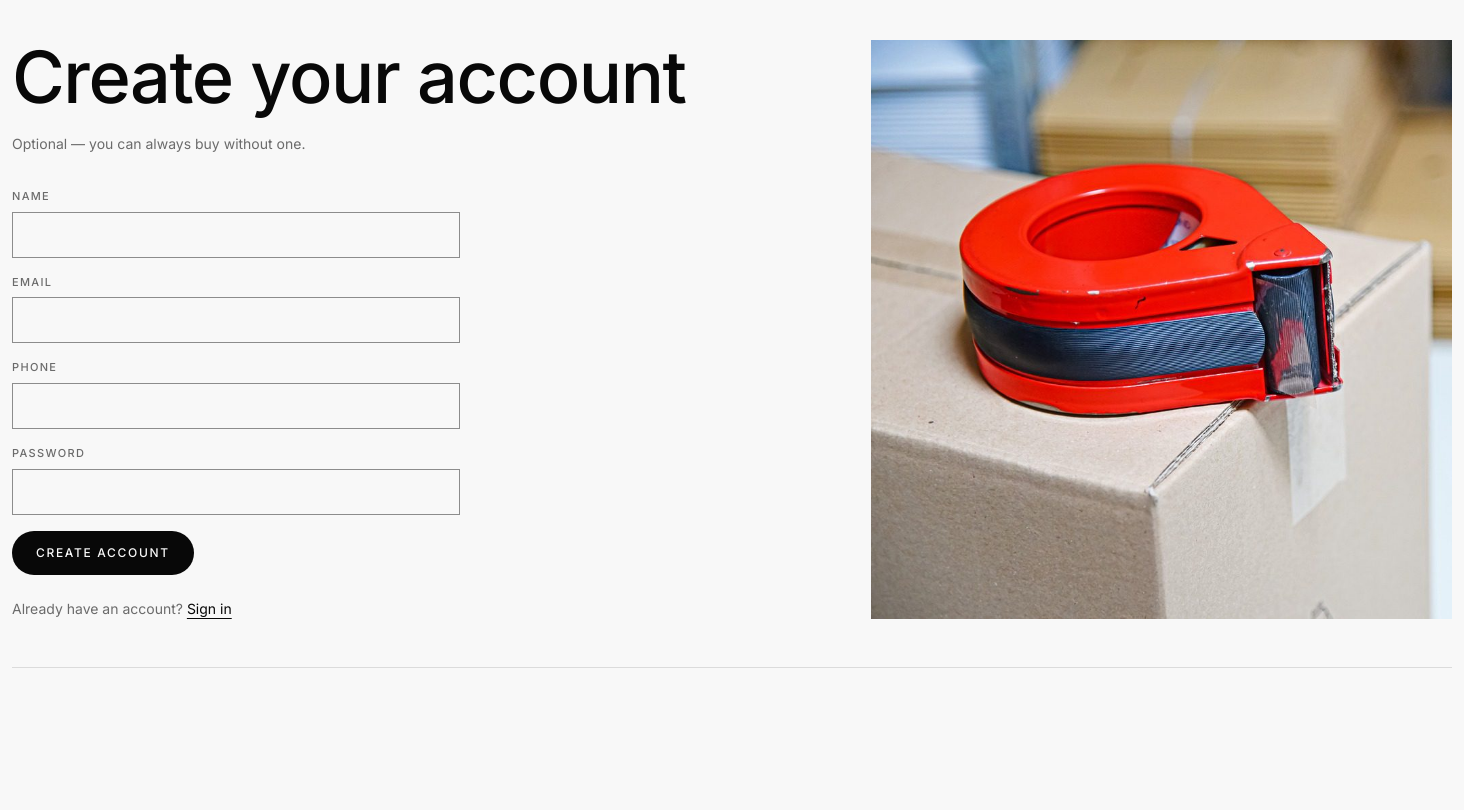
Test: sign up (SC-18, SC-19) › says to wait after too many tries
The width and height of the screenshot is (1464, 810).
Type "Other Lan" into the field labelled "Name" at (236, 235), box [12,212,460,258]
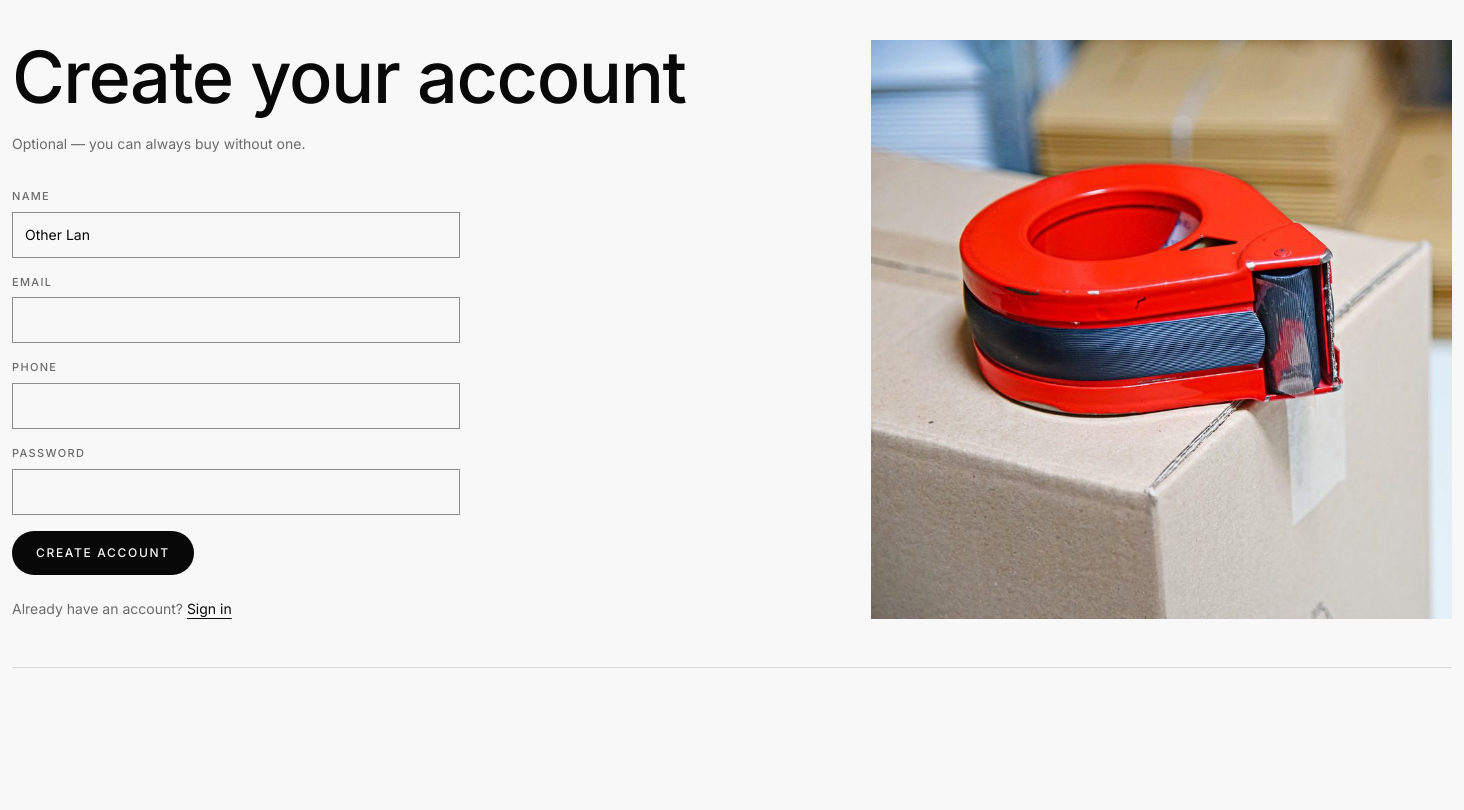
Type "LAN@example.com" into the field labelled "Email" at (236, 320), box [12,297,460,343]
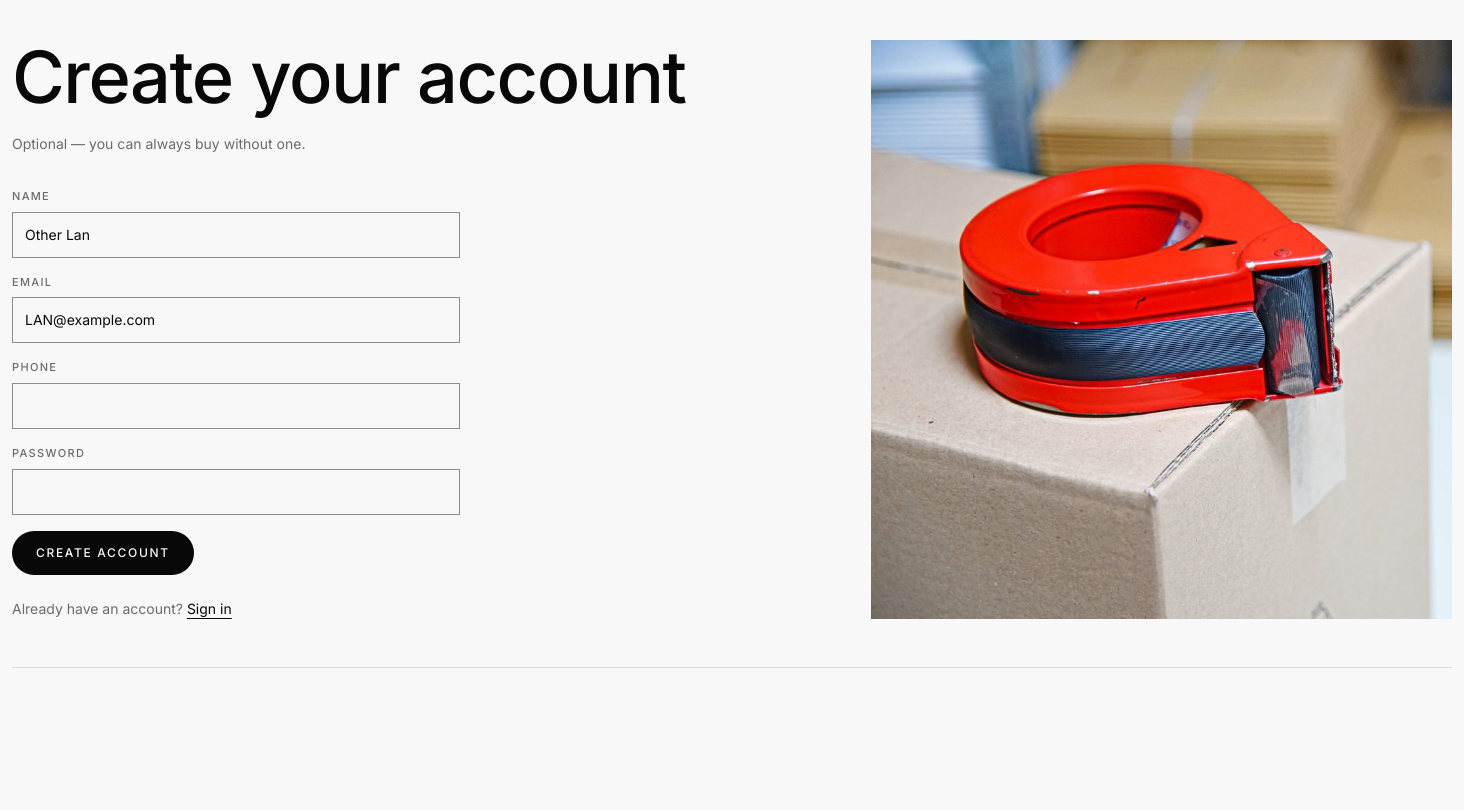
Type "0912 345 678" into the field labelled "Phone" at (236, 406), box [12,383,460,429]
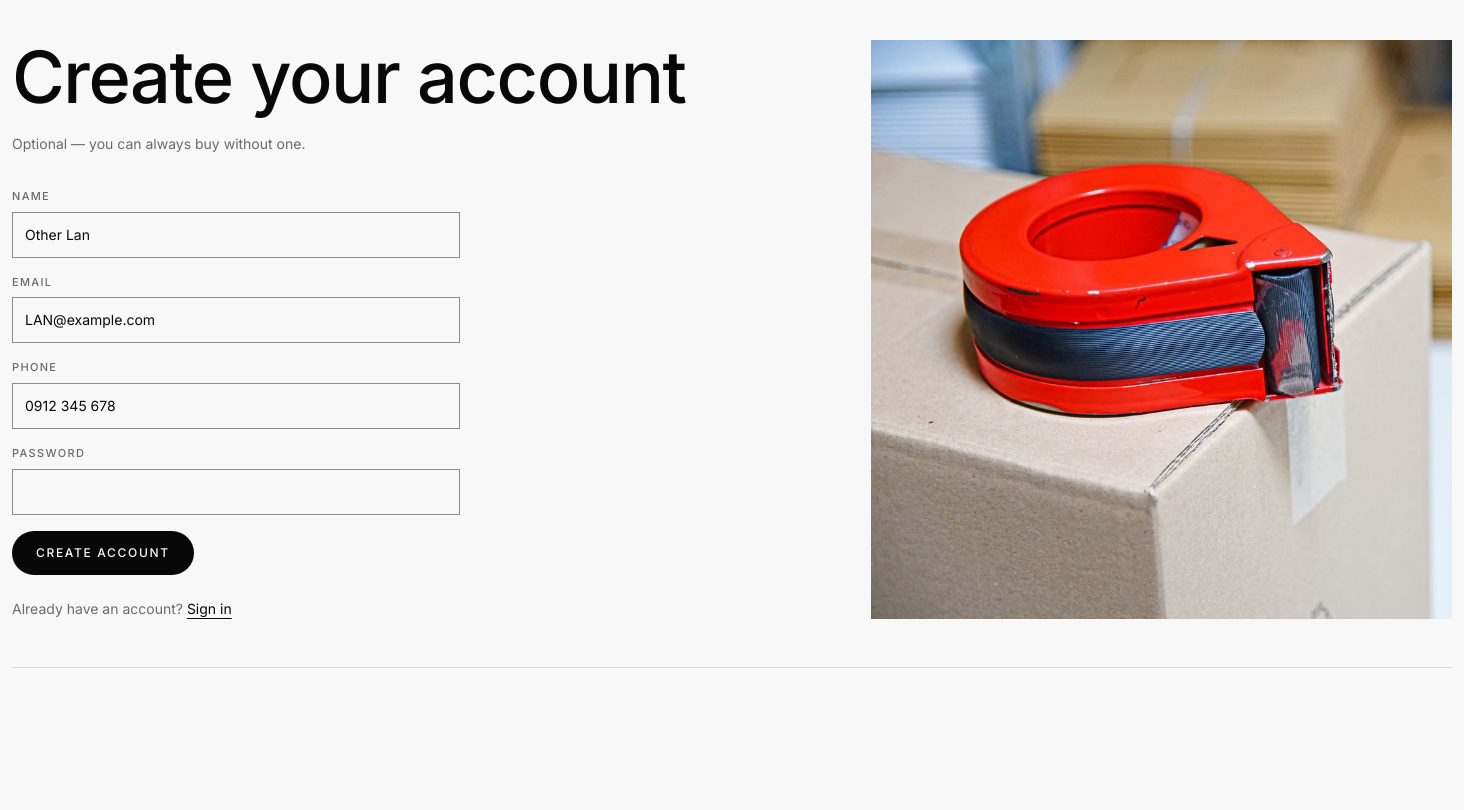
Type "lanpass123" into the password field labelled "Password" at (236, 492), box [12,469,460,515]
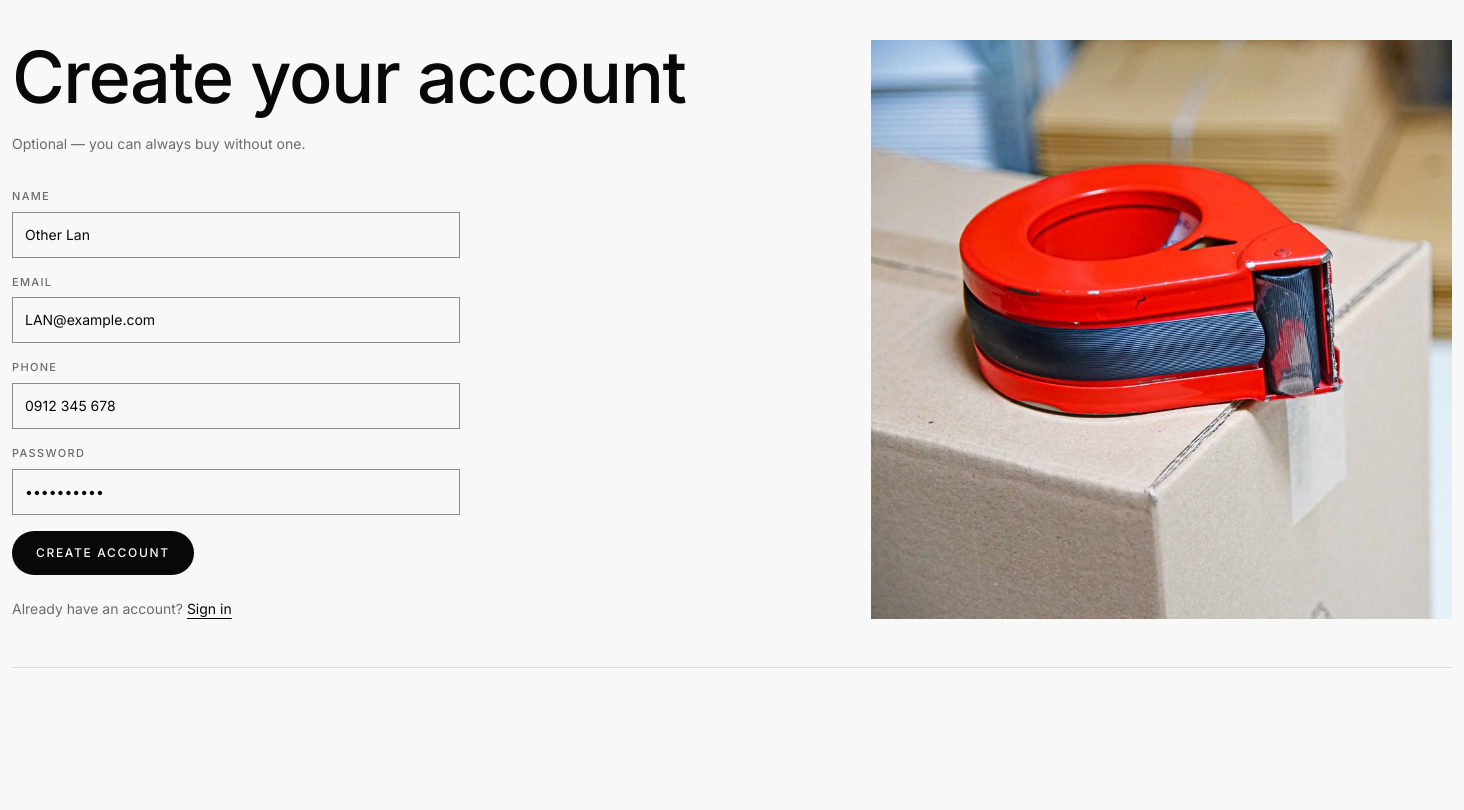
Click the button "Create account" at (103, 553), box [12,531,194,575]
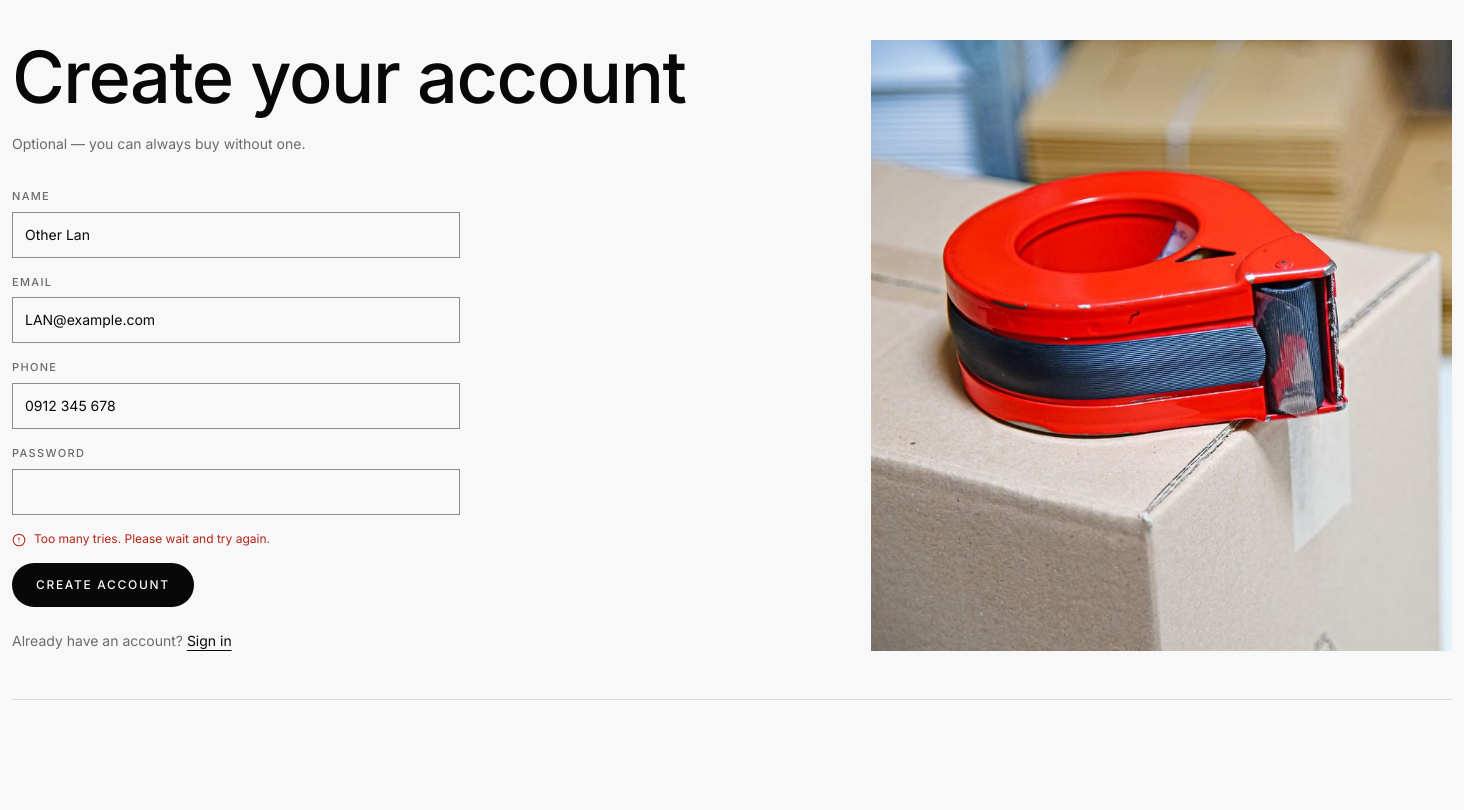
Check: the text "Too many tries. Please wait and try again." is shown, box [34,531,270,547]
